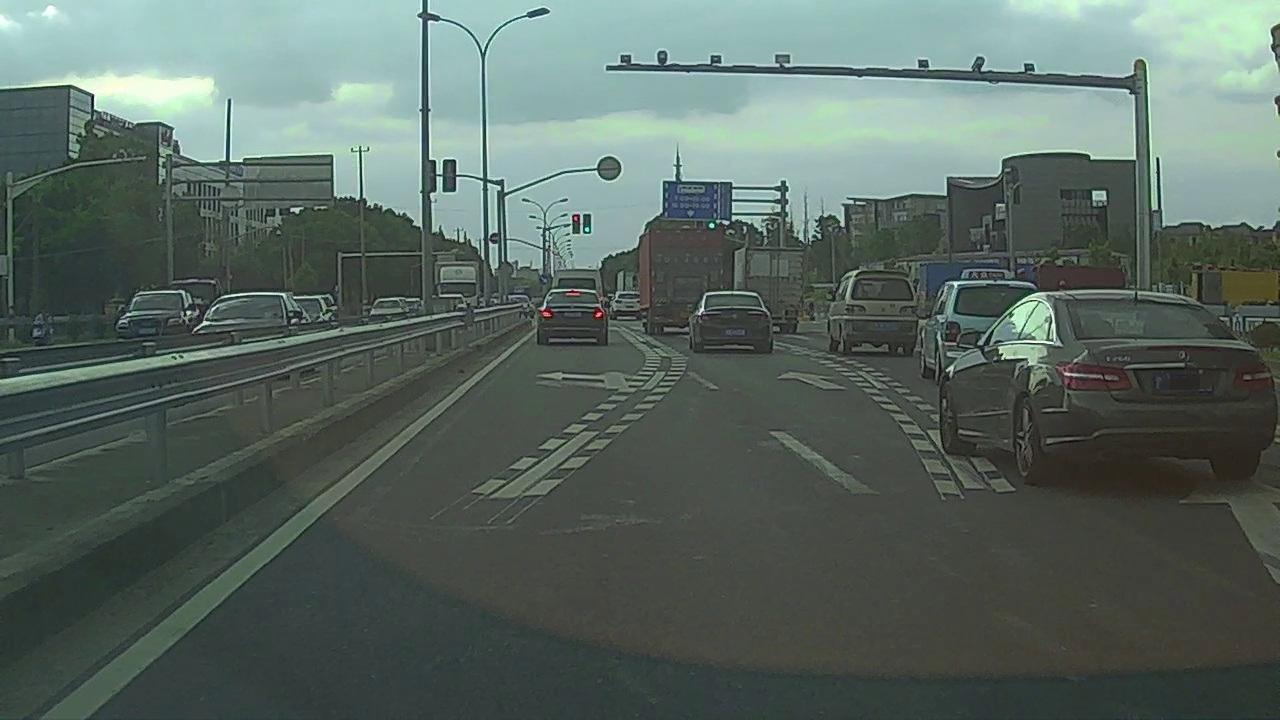traffic_light: (584, 214, 592, 234), (573, 214, 580, 234)
